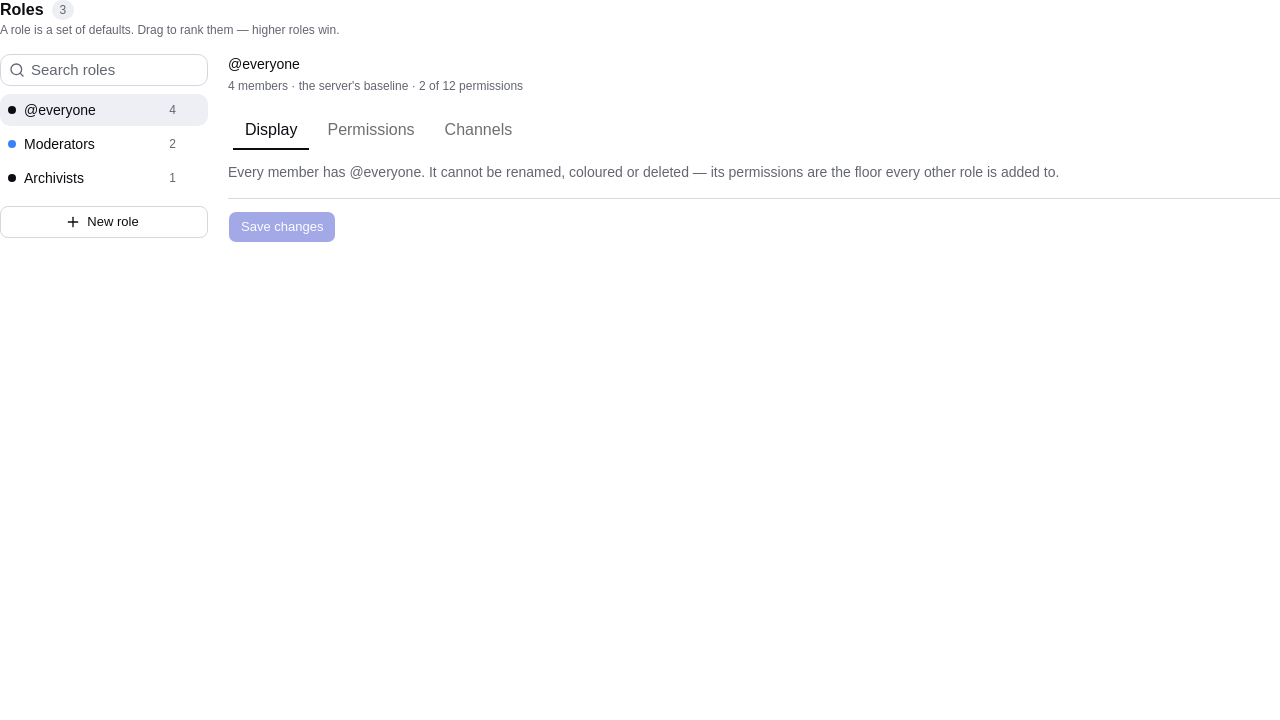
Test: RolesPage › agrees the deletion copy with the number of members
The image size is (1280, 720).
Expected: the list named "Roles" is shown, [0,94,208,194]
Click the button "Moderators 2" at [90, 144], box [0,128,180,160]
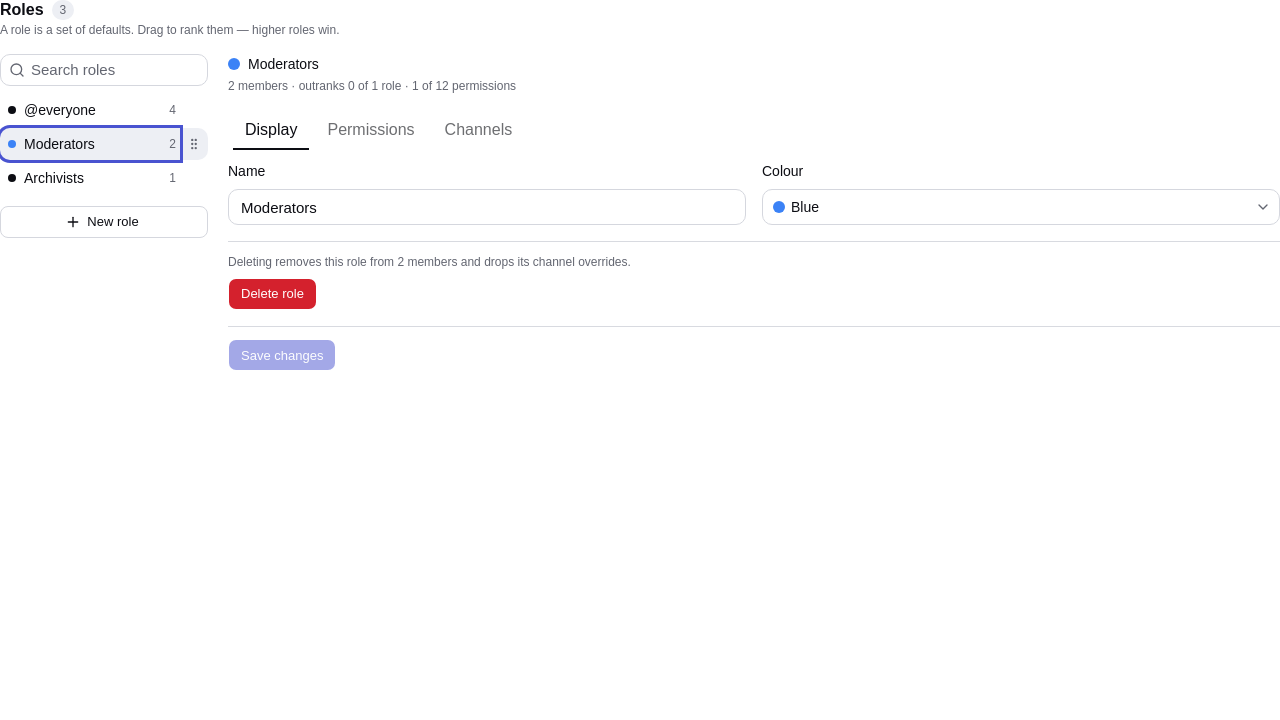
Click the button "Delete role" at [272, 294], box [228,278,317,310]
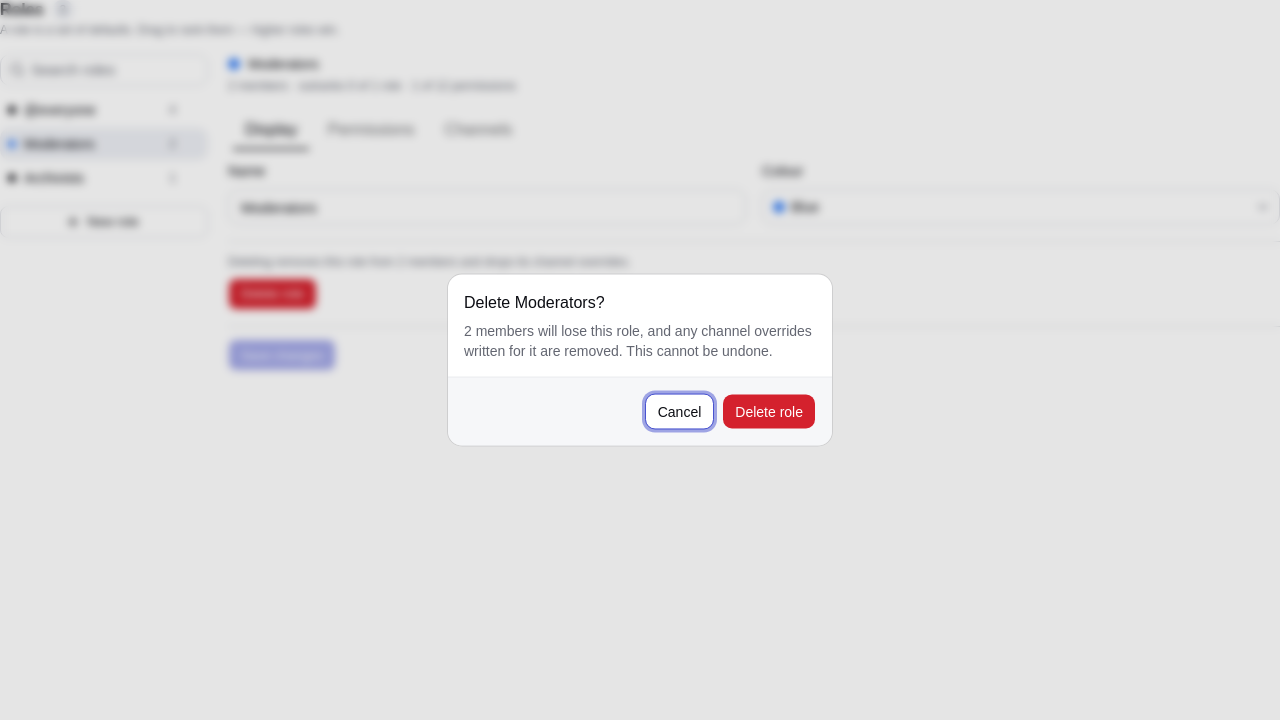
Result: the text "2 members will lose this role" is shown at [464,320,816,360]
